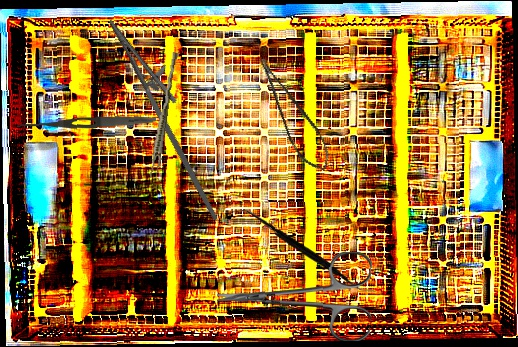Dressing Forceps: (16, 113, 157, 133)
Iris Scissors: (216, 249, 372, 342)
Micro Scissor: (255, 48, 336, 178)
Needle Holder: (85, 8, 255, 222)
Spatula Surgical: (230, 209, 377, 293)
Tissue Forceps: (148, 51, 180, 180)
